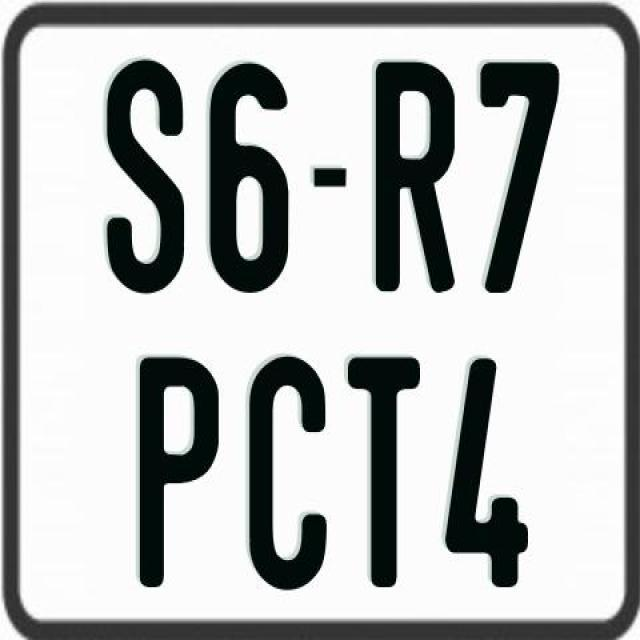4: (444, 355, 532, 593)
6: (206, 63, 286, 295)
7: (479, 58, 557, 288)
C: (249, 352, 331, 589)
P: (139, 352, 221, 582)
R: (372, 58, 450, 295)
S: (104, 58, 190, 293)
T: (347, 357, 427, 592)
